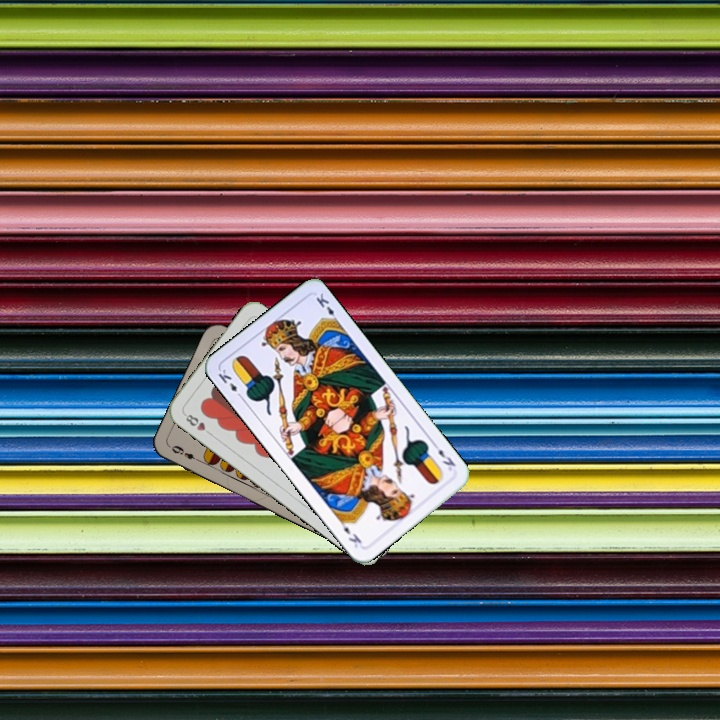E9: (166, 441, 204, 465)
EK: (214, 365, 246, 402), (429, 439, 458, 473)
H8: (180, 409, 215, 438)
